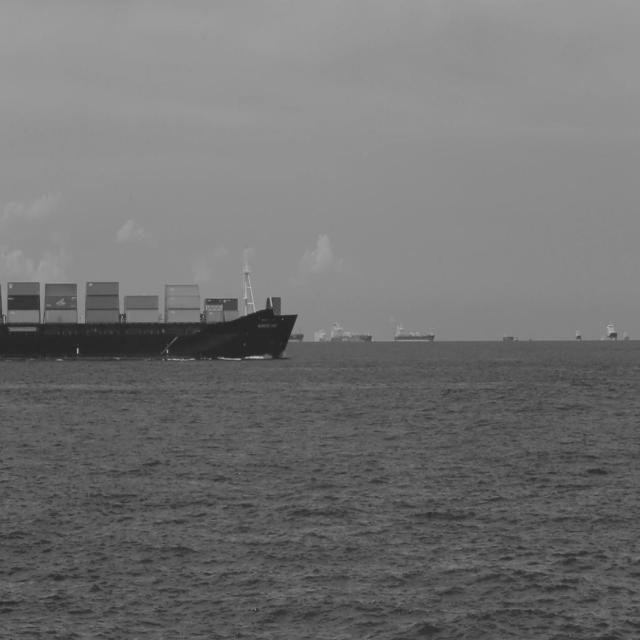ship: (0, 248, 299, 362), (394, 316, 438, 342), (331, 318, 378, 342), (284, 327, 308, 344)
